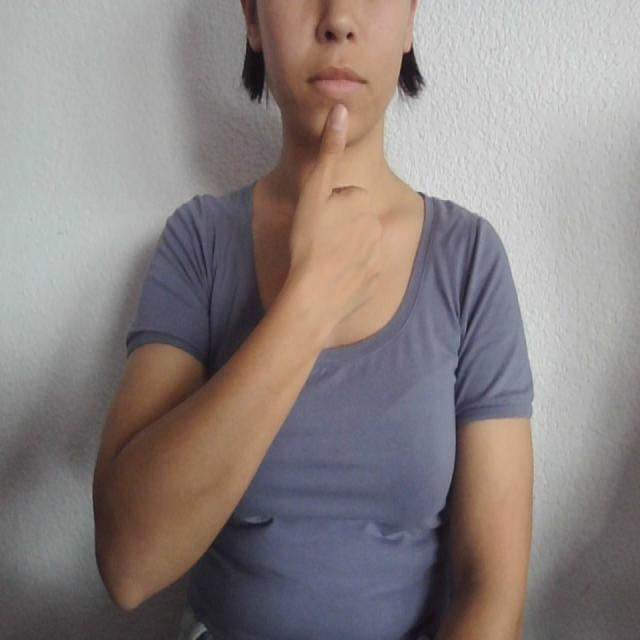Baba: (298, 52, 374, 170)
